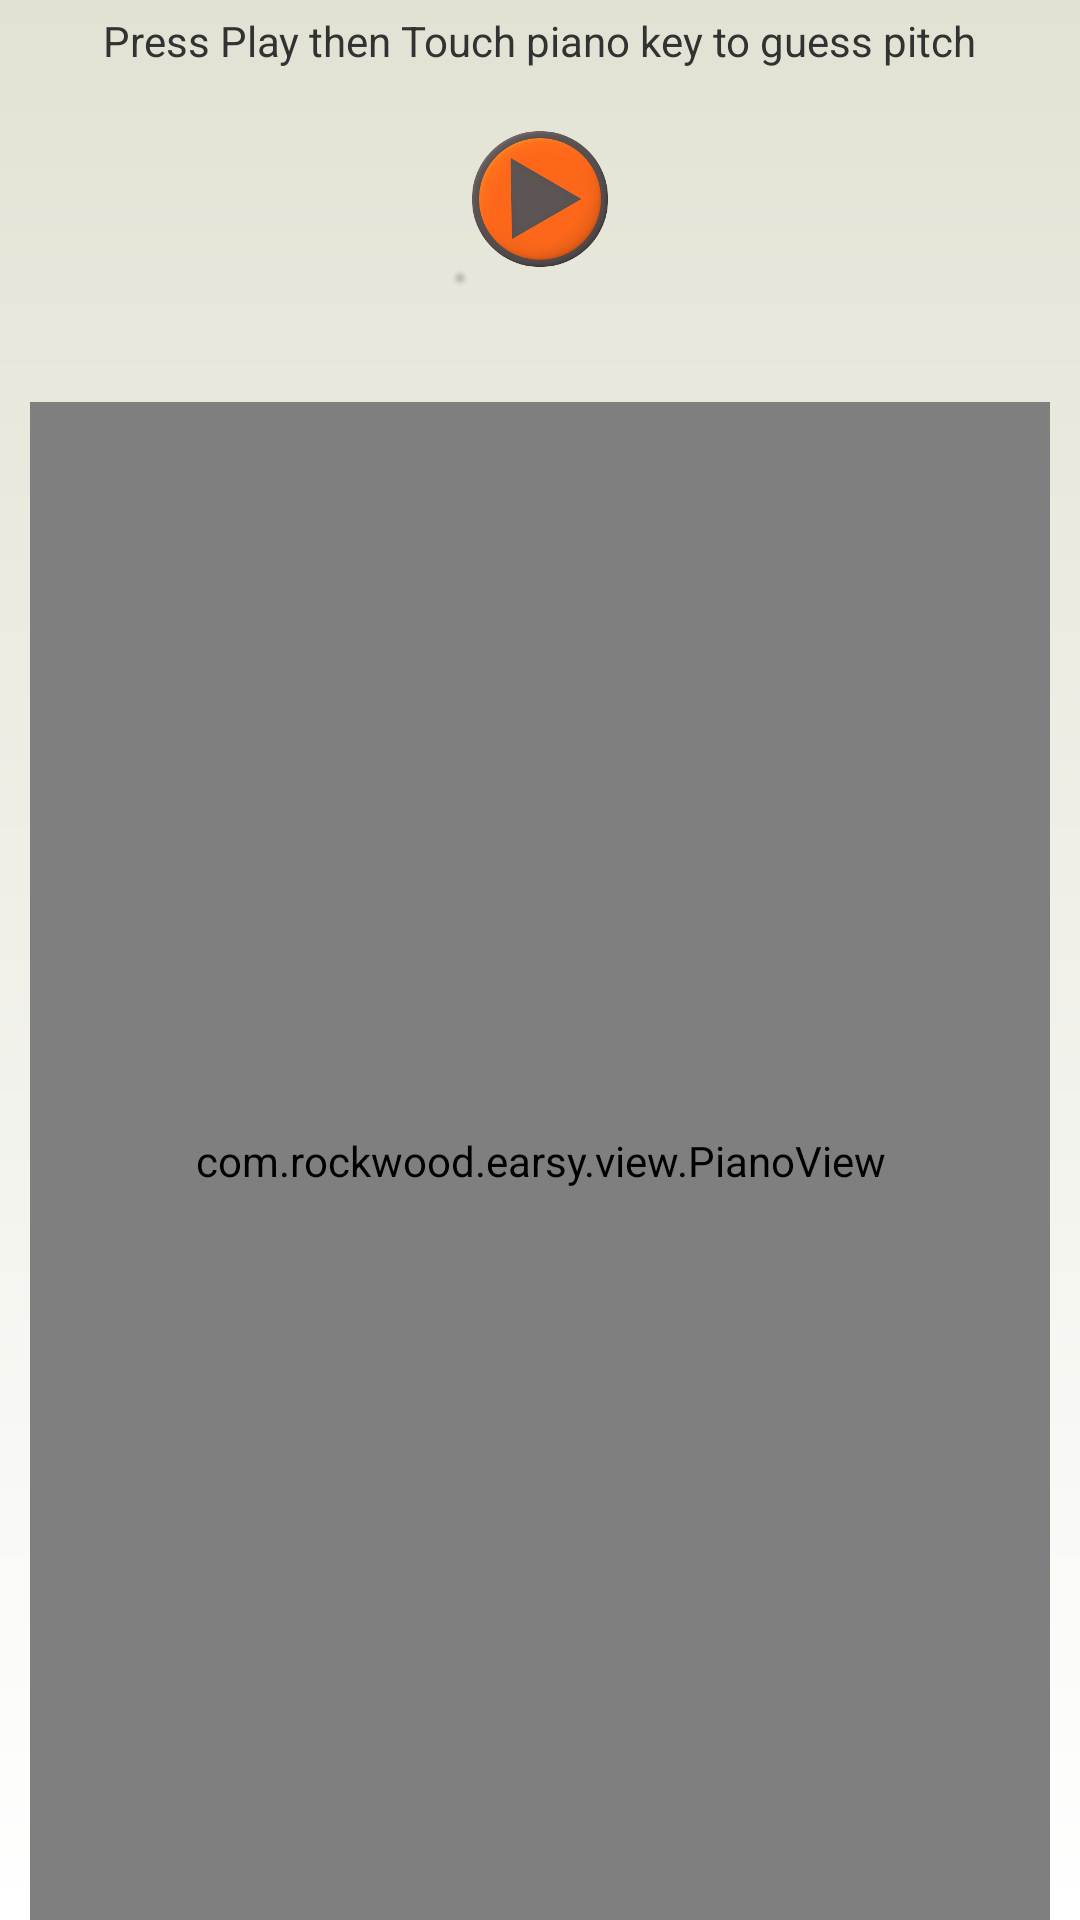

Where to tap for icons on this 1080px x 1920px app screen, as [x,y]:
plays audio for user: [532,206]
